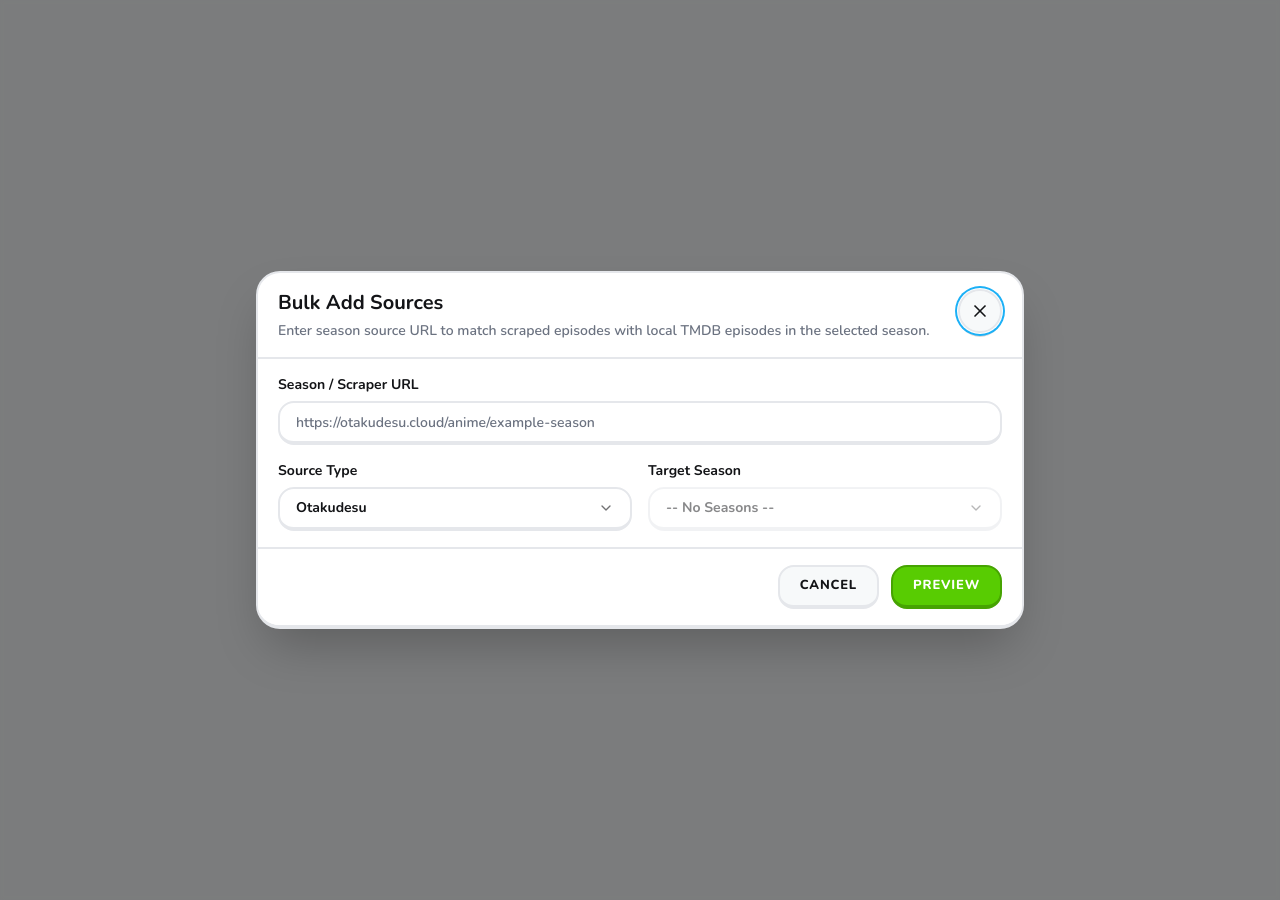
BulkScrapeModal component › renders Step 1 form when open including Dramula source option
The image size is (1280, 900).
expect the heading "Bulk Add Sources" is shown: met, box [278,289,443,316]
expect the field labelled "Season / Scraper URL" is shown: met, box [278,401,1002,445]
Click the dropdown named "Source Type": (331,508) [278,487,632,531]
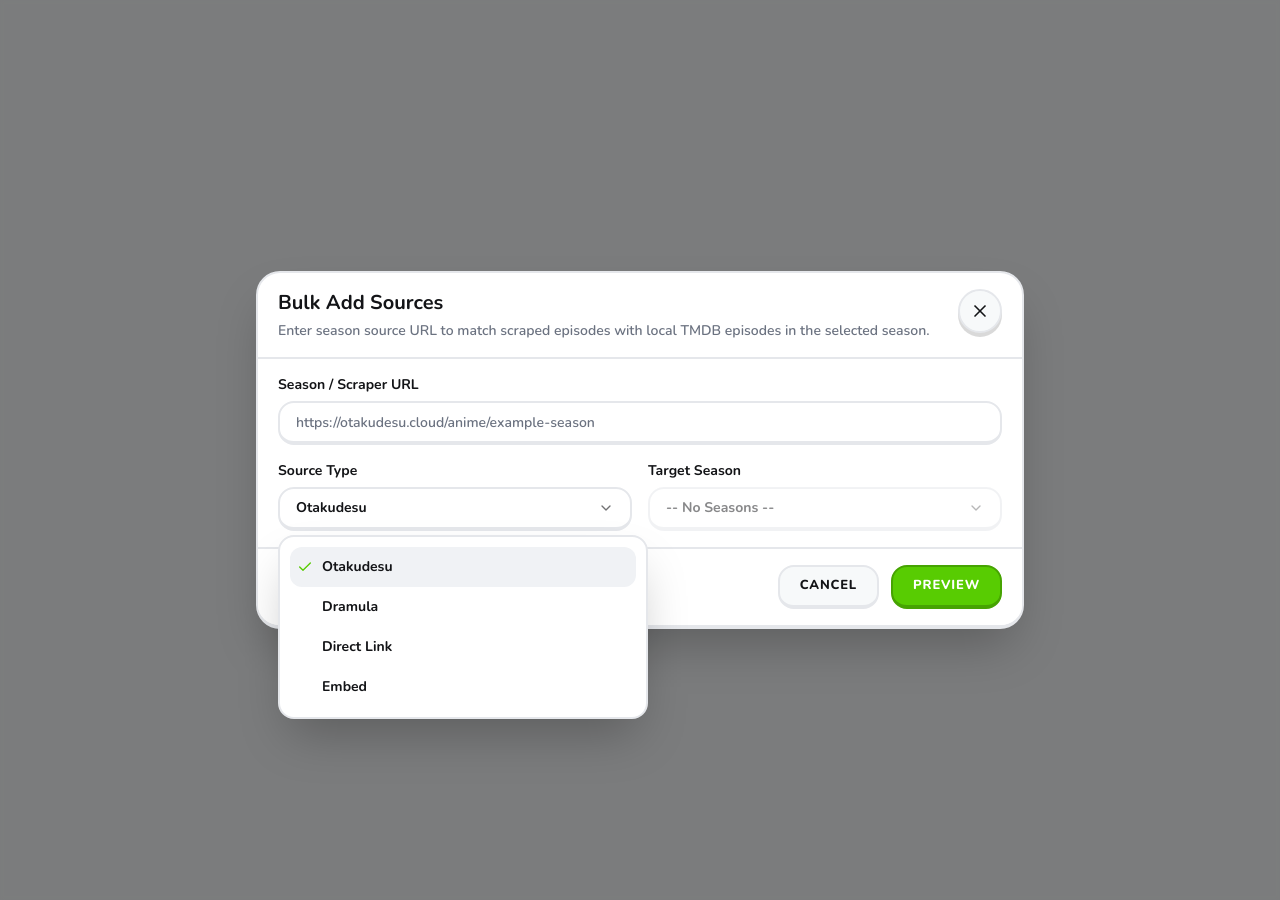
expect the option "Dramula" is shown: met
Click the option "Dramula": (350,606) [322,597,378,616]
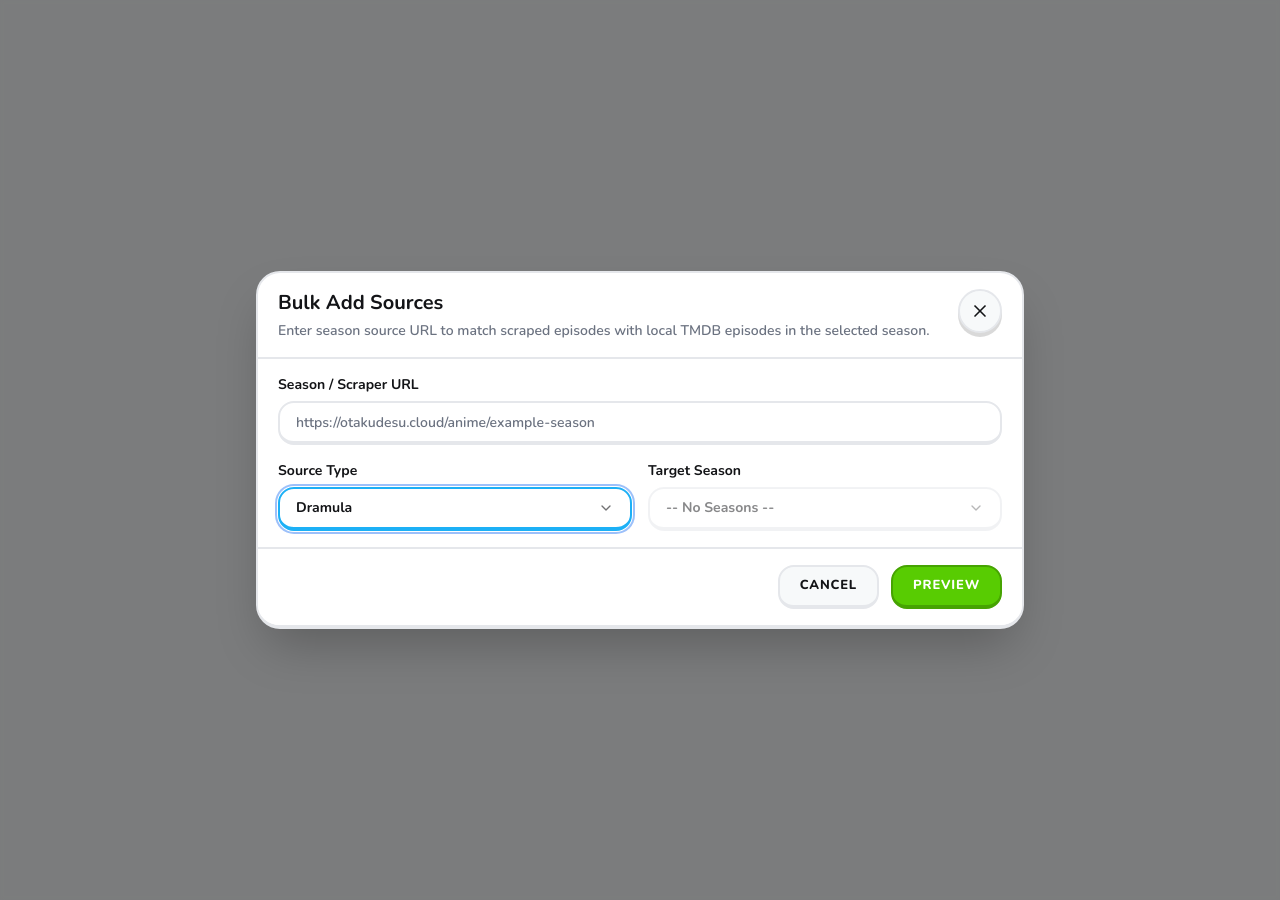
expect the dropdown named "Target Season" is shown: met, box [648,487,1002,531]
expect the dropdown named "Source Type" reads "Dramula": met, box [278,487,632,531]
